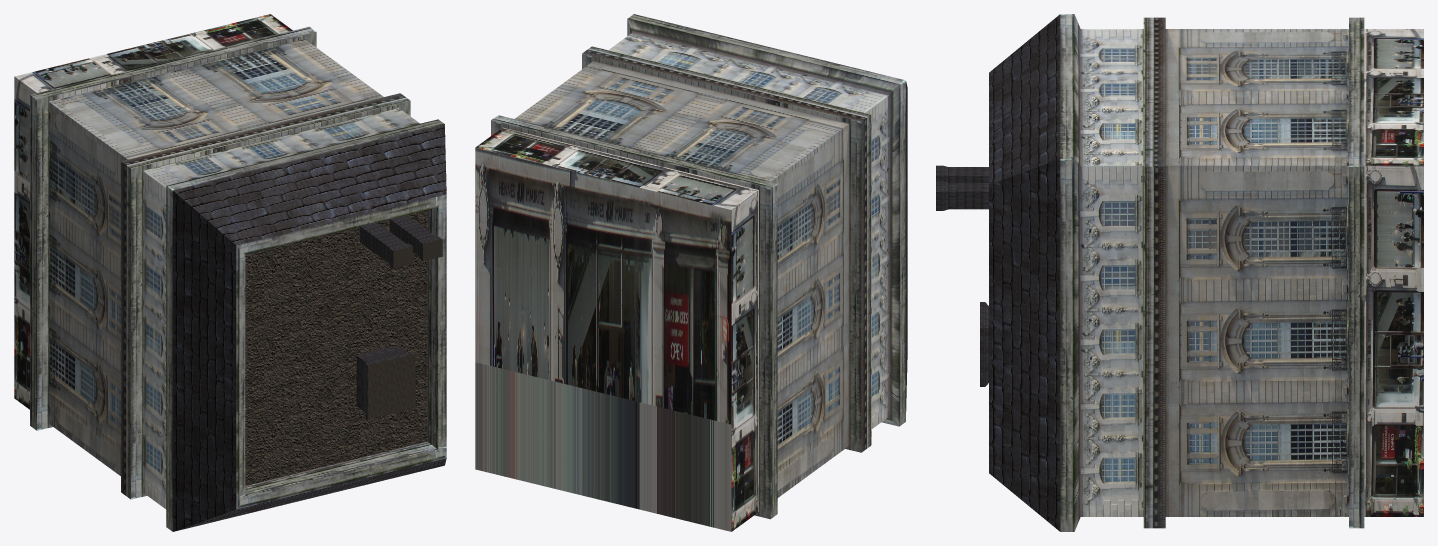
The model's file is residential_building_01.obj.
3 renders of one model, left to right at view 1: azimuth 30°, elevation 25°; view 2: azimuth 150°, elevation 25°; view 3: azimuth 270°, elevation 25°, orthographic. The views are drawn at different scales.
Visible parts, largest first — view 1: Shops_A_01; view 2: Shops_A_01; view 3: Shops_A_01.
Part boxes in pixels (bbox=[...]): Shops_A_01: bbox=[14, 14, 446, 531]; Shops_A_01: bbox=[475, 14, 907, 531]; Shops_A_01: bbox=[936, 14, 1423, 531].
Size of the model in its own units: 34.89 by 40.75 by 48.3.
Materials: 5 (5 with a texture image).
